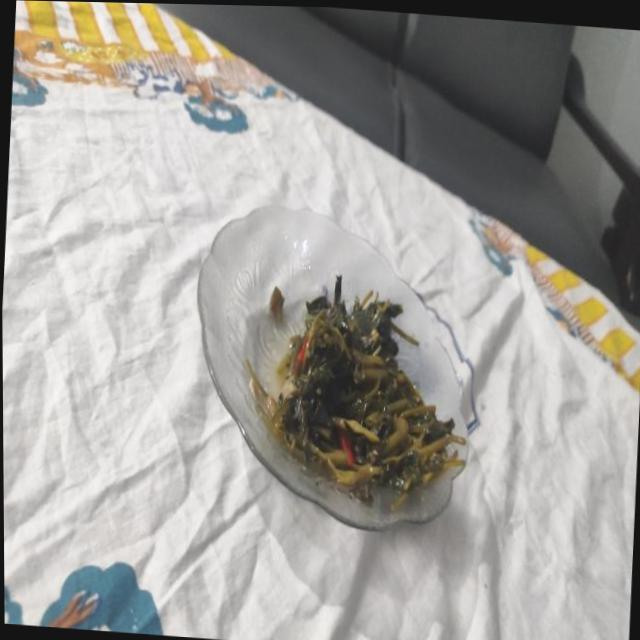tumis_kangkung: (274, 276, 466, 514)
